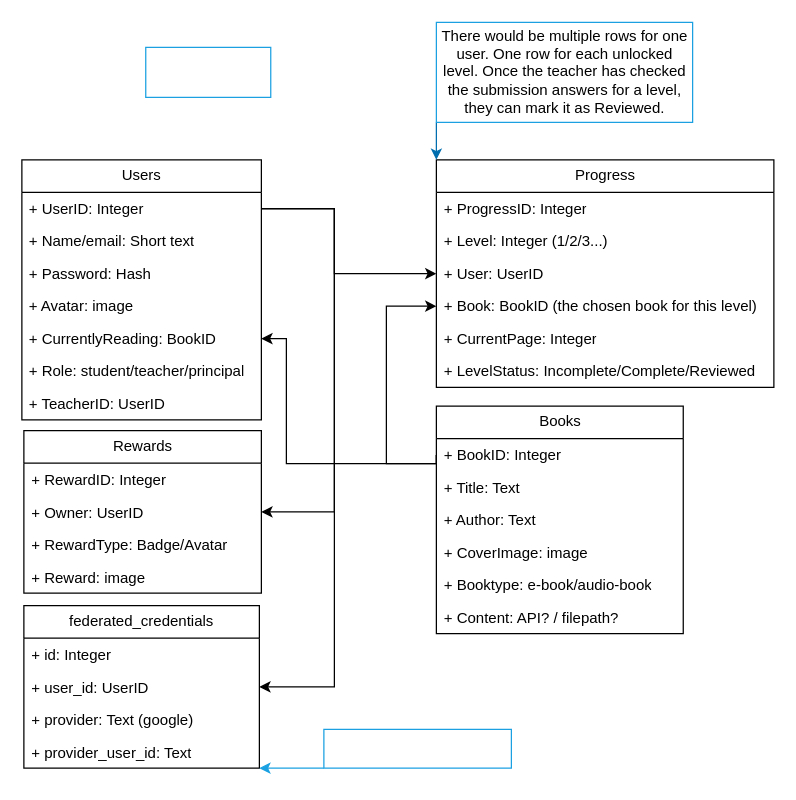
The diagram is 796 pixels wide and 800 high, and some of its shapes have lost their labels. The shapes that lost their labels are listed below. From the top down, each one's centre as x and y in pixels, then its label:
point 207,71: MVP level functionalities
point 417,748: For Google Authentication
